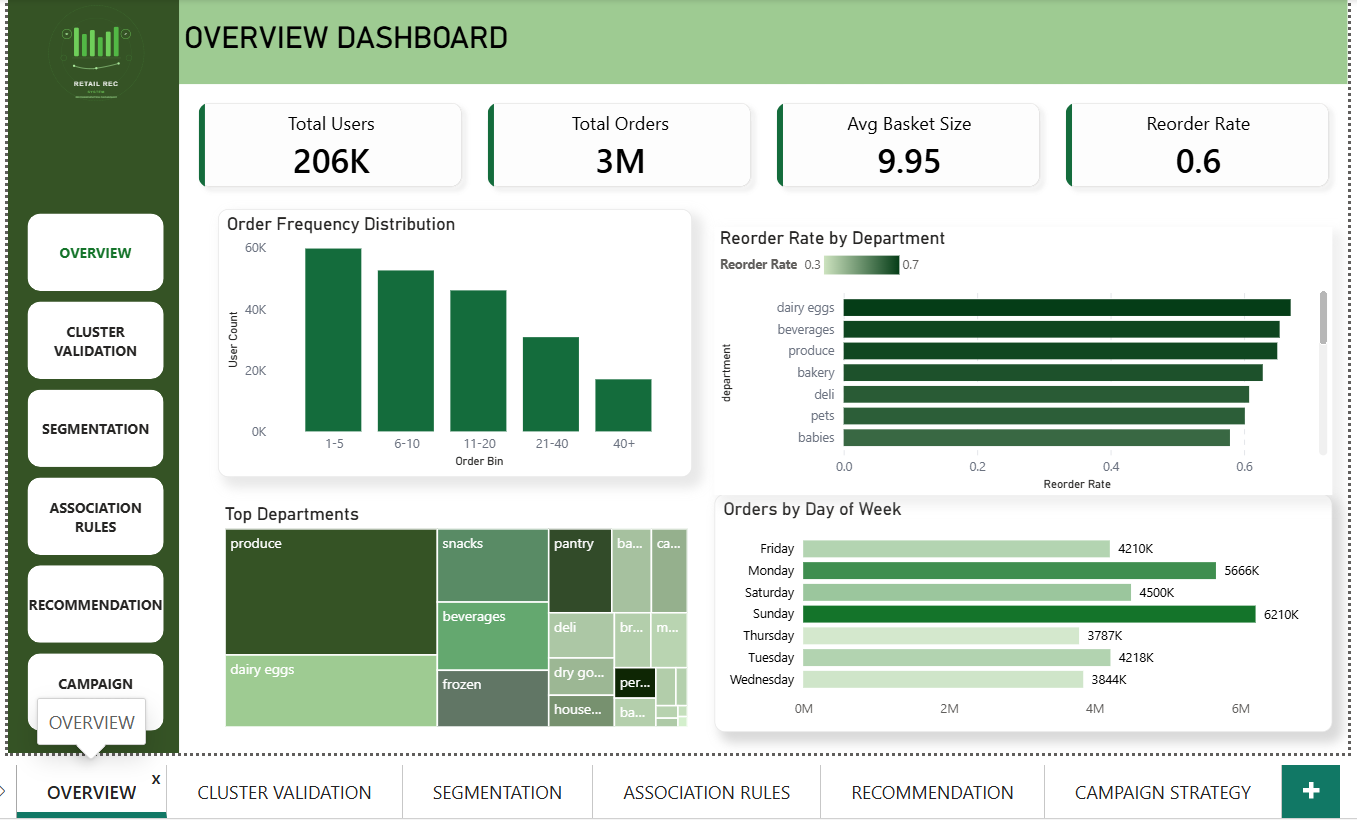

The page's visual inventory and layout, read from the dashboard file:
{"tool":"powerbi","page":{"name":"OVERVIEW","canvas":[1280,720],"ordinal":0},"visuals":[{"type":"shape","box":[0,0,163.3,830],"z":0,"group":"g1"},{"type":"shape","box":[150.4,0,1128.7,81.6],"z":0},{"type":"textbox","box":[162.7,13.6,639.1,76.4],"z":1000},{"type":"group","id":"g1","title":"Group 1","box":[0,0,163.3,830],"z":2000},{"type":"barChart","title":"Orders by Day of Week","fields":{"Category":["dim_time_behavior.dow_name"],"Y":["Sum(fact_product_stats.order_count)"]},"box":[674.3,472.9,590,227.1],"z":4000},{"type":"pageNavigator","box":[18.6,204.3,130,495.7],"z":5000},{"type":"cardVisual","fields":{"Data":["measures (2).Total Users","measures (2).Total Orders","measures (2).Avg Basket Size","measures (2).Reorder Rate"]},"box":[164.3,81.4,1115.7,115.7],"z":6000},{"type":"clusteredColumnChart","title":"Order Frequency Distribution","fields":{"Category":["dim_user.Order Bin"],"Y":["measures (2).User Count"]},"box":[200,200,452.9,255.7],"z":7000},{"type":"clusteredBarChart","title":"Reorder Rate by Department","fields":{"Category":["dim_product.department"],"Y":["measures (2).P1 Reorder Rate"]},"box":[674.3,217.1,590,255.7],"z":8000},{"type":"treemap","title":"Top Departments","fields":{"Group":["dim_product.department"],"Values":["Sum(fact_product_stats.order_count)"]},"box":[201.4,481.4,451.4,218.6],"z":9000},{"type":"image","box":[0,0,169,103.1],"z":10000}]}

Visuals, with their boxes on the page's 1280x720 design canvas (x1, y1, x2, y2). These are canvas units, not pixel positions in the 1357x820 screenshot, which may show the page scaled, cropped or inside an application window:
shape: pyautogui.locateOnScreen(0, 0, 163, 830)
shape: pyautogui.locateOnScreen(150, 0, 1279, 82)
textbox: pyautogui.locateOnScreen(163, 14, 802, 90)
"Group 1" group: pyautogui.locateOnScreen(0, 0, 163, 830)
"Orders by Day of Week" barChart: pyautogui.locateOnScreen(674, 473, 1264, 700)
pageNavigator: pyautogui.locateOnScreen(19, 204, 149, 700)
cardVisual - measures (2).Total Users x measures (2).Total Orders: pyautogui.locateOnScreen(164, 81, 1280, 197)
"Order Frequency Distribution" clusteredColumnChart: pyautogui.locateOnScreen(200, 200, 653, 456)
"Reorder Rate by Department" clusteredBarChart: pyautogui.locateOnScreen(674, 217, 1264, 473)
"Top Departments" treemap: pyautogui.locateOnScreen(201, 481, 653, 700)
image: pyautogui.locateOnScreen(0, 0, 169, 103)
